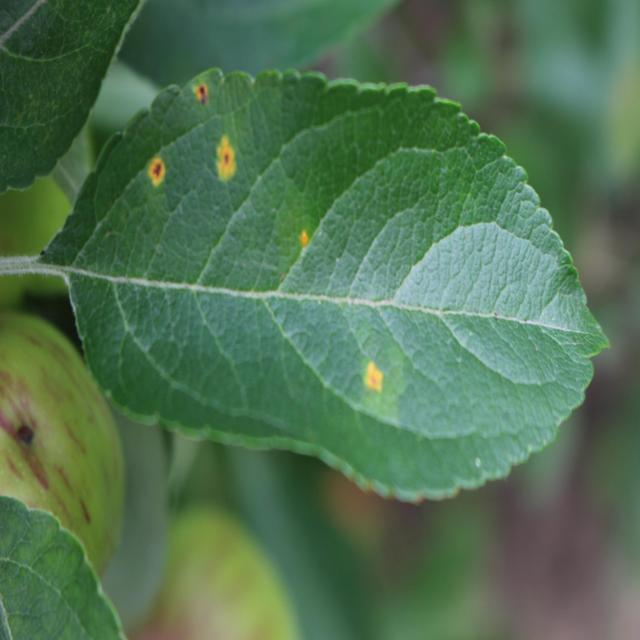Rust: (205, 122, 250, 204), (269, 223, 326, 263), (356, 343, 386, 417), (141, 150, 171, 208), (187, 73, 219, 106)
